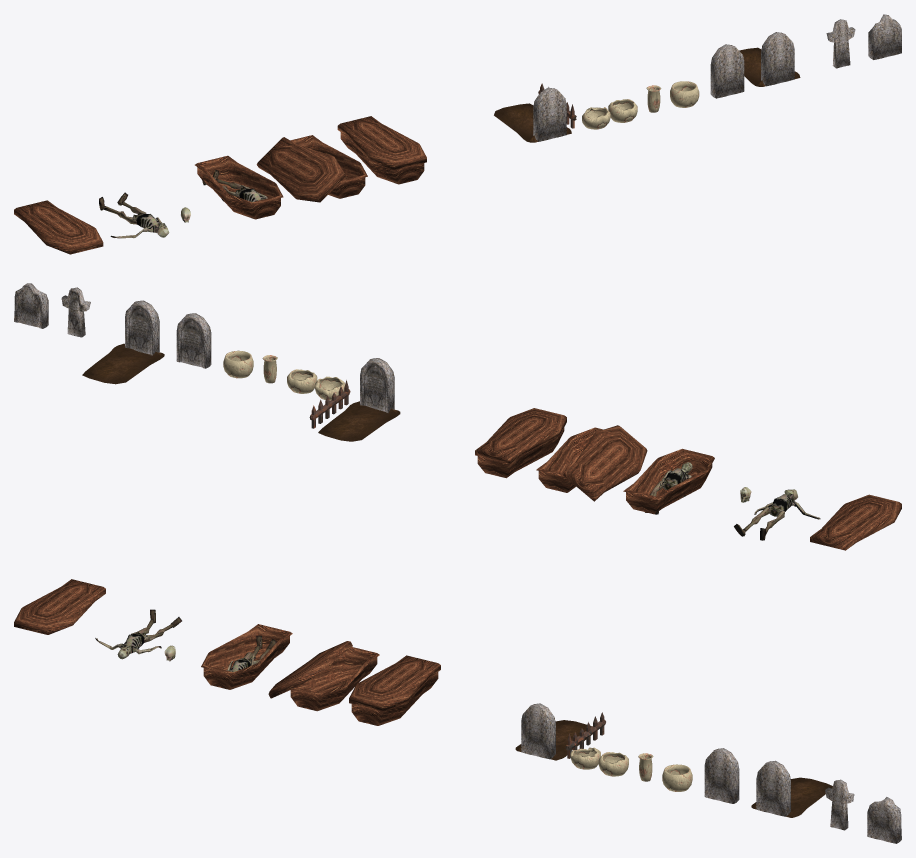
File: crypt_assets.glb
3 views of the same model, one above another, from view 1: azimuth 30°, elevation 25°; view 2: azimuth 150°, elevation 25°; view 3: azimuth 330°, elevation 25° (orthographic). The views are drawn at different scales.
Parts seen in each view (by area): view 1: ccasket_lid-open, Casket, casket_open, metal_fence, casket_lid, ground, gravestone, gravestone_broken, skeleton_corpse, grave_cross, Pot, Pot.001 (+2 smaller); view 2: ccasket_lid-open, metal_fence, Casket, ground, casket_open, casket_lid, gravestone, gravestone_broken, skeleton_corpse, grave_cross, Pot, Pot.001 (+1 smaller); view 3: Casket, ccasket_lid-open, casket_open, metal_fence, casket_lid, ground, ccasket_lid-open.001, gravestone, gravestone_broken, skeleton_corpse, grave_cross, Pot (+3 smaller).
Part boxes in pixels (<box>): ccasket_lid-open: <box>256,135,367,202</box>; Casket: <box>337,116,426,184</box>; casket_open: <box>195,155,283,219</box>; metal_fence: <box>494,83,576,142</box>; casket_lid: <box>14,200,103,254</box>; ground: <box>739,32,800,86</box>; gravestone: <box>710,44,744,98</box>; gravestone_broken: <box>868,14,901,59</box>; skeleton_corpse: <box>99,192,169,238</box>; grave_cross: <box>826,19,855,68</box>; Pot: <box>670,81,699,107</box>; Pot.001: <box>608,99,637,122</box>; ccasket_lid-open: <box>536,425,647,501</box>; metal_fence: <box>309,358,400,441</box>; Casket: <box>475,408,566,478</box>; ground: <box>82,300,164,384</box>; casket_open: <box>623,448,714,514</box>; casket_lid: <box>810,494,901,550</box>; gravestone: <box>176,313,211,368</box>; gravestone_broken: <box>14,283,48,328</box>; skeleton_corpse: <box>734,489,820,540</box>; grave_cross: <box>61,287,90,337</box>; Pot: <box>223,350,253,378</box>; Pot.001: <box>287,369,317,393</box>; Casket: <box>349,655,440,725</box>; ccasket_lid-open: <box>268,641,379,710</box>; casket_open: <box>201,624,292,689</box>; metal_fence: <box>515,703,605,760</box>; casket_lid: <box>14,579,105,634</box>; ground: <box>751,760,832,817</box>; ccasket_lid-open.001: <box>290,647,379,711</box>; gravestone: <box>704,748,739,803</box>; gravestone_broken: <box>867,797,901,843</box>; skeleton_corpse: <box>95,609,181,659</box>; grave_cross: <box>825,779,854,830</box>; Pot: <box>662,764,692,791</box>.
Bounding box in the file's own units: 37.57 × 2.07 × 4.32.
Materials: 19 (19 with a texture image).
